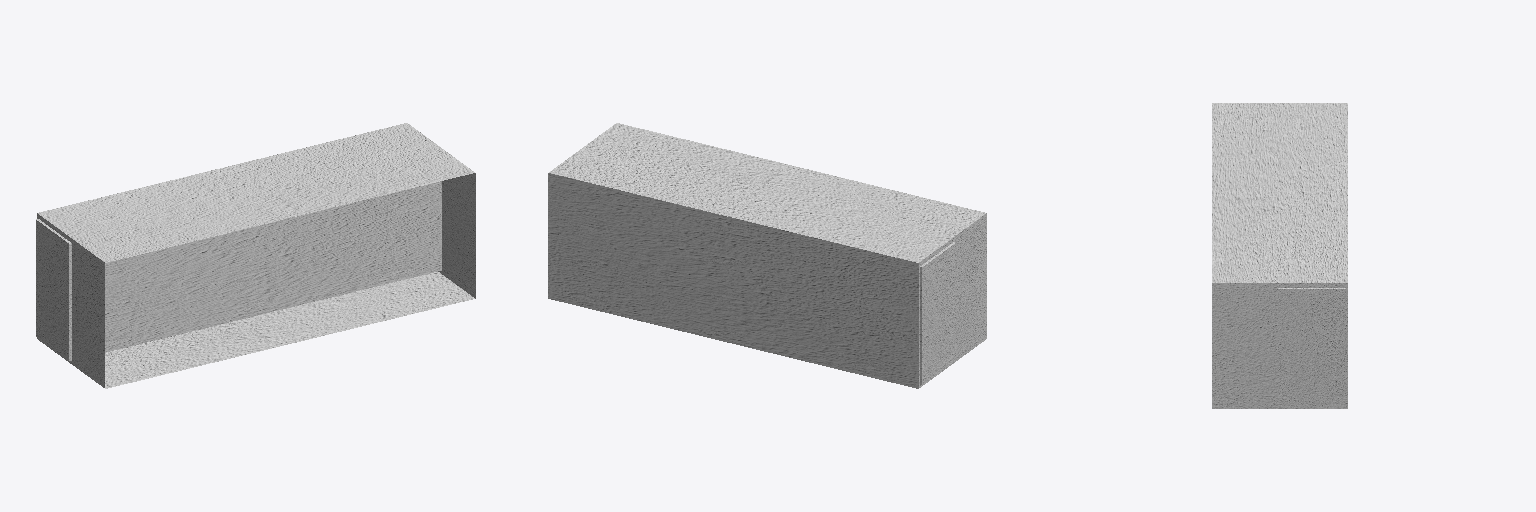
3 renders of one model, left to right at view 1: azimuth 30°, elevation 25°; view 2: azimuth 150°, elevation 25°; view 3: azimuth 270°, elevation 25°, orthographic.
Parts seen in each view (by area): view 1: Box001, Box002; view 2: Box001, Box002; view 3: Box001, Box002.
Part boxes in pixels (left/top/right/bottom): Box001: left=37, top=123, right=475, bottom=388; Box002: left=36, top=181, right=441, bottom=360; Box001: left=548, top=123, right=986, bottom=388; Box002: left=920, top=242, right=955, bottom=384; Box001: left=1212, top=103, right=1347, bottom=408; Box002: left=1278, top=288, right=1345, bottom=406.
Size of the model in its own units: 60.69 by 19.5 by 19.19.
1 materials, 1 textured.